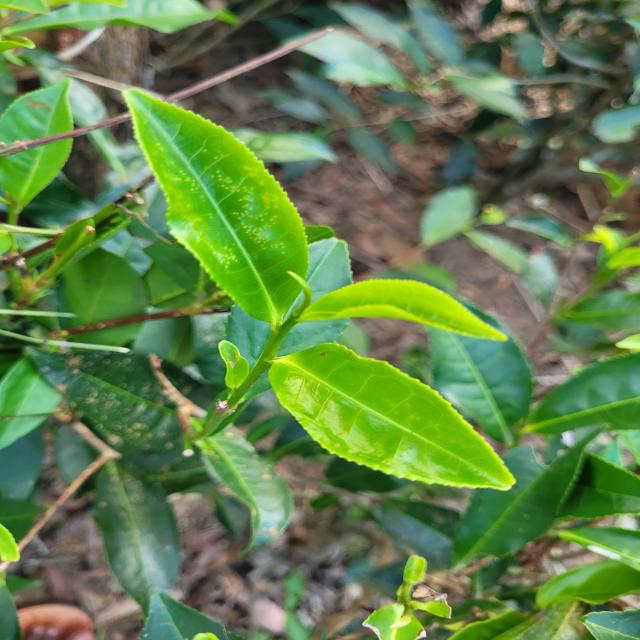Catagory A(1-2 days): (296, 258, 529, 364)
